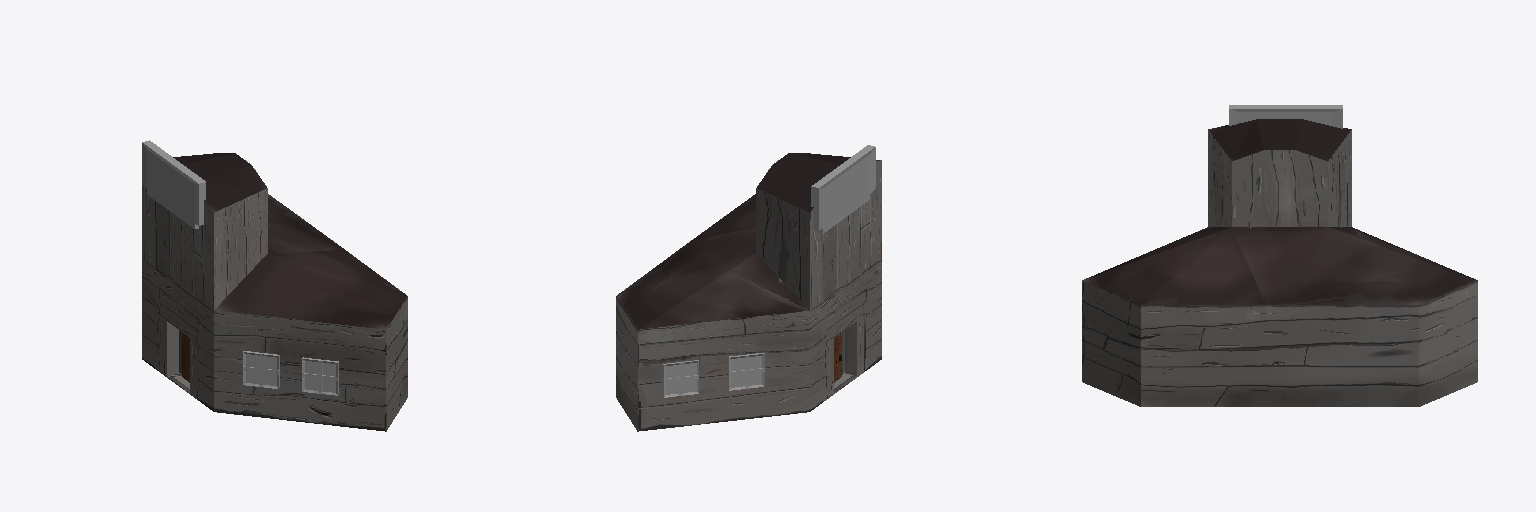
3 views of the same model, side by side, from view 1: azimuth 30°, elevation 25°; view 2: azimuth 150°, elevation 25°; view 3: azimuth 270°, elevation 25° (orthographic).
Visible parts, largest first — view 1: Cube.060_Cube.049, Cube.047_Cube.022, Cube.012_Cube.008, Cube.015_Cube.012; view 2: Cube.060_Cube.049, Cube.047_Cube.022, Cube.017_Cube.014, Cube.019_Cube.016; view 3: Cube.060_Cube.049, Cube.047_Cube.022.
Part boxes in pixels (left/top/right/bottom): Cube.060_Cube.049: left=142, top=153, right=407, bottom=431; Cube.047_Cube.022: left=142, top=140, right=205, bottom=228; Cube.012_Cube.008: left=243, top=351, right=279, bottom=388; Cube.015_Cube.012: left=302, top=357, right=338, bottom=395; Cube.060_Cube.049: left=616, top=153, right=881, bottom=431; Cube.047_Cube.022: left=811, top=145, right=875, bottom=233; Cube.017_Cube.014: left=728, top=353, right=764, bottom=390; Cube.019_Cube.016: left=663, top=360, right=698, bottom=397; Cube.060_Cube.049: left=1082, top=119, right=1477, bottom=406; Cube.047_Cube.022: left=1229, top=105, right=1342, bottom=128.
Bounding box in the file's own units: 9.78 × 12.56 × 20.3.
4 materials, 2 textured.